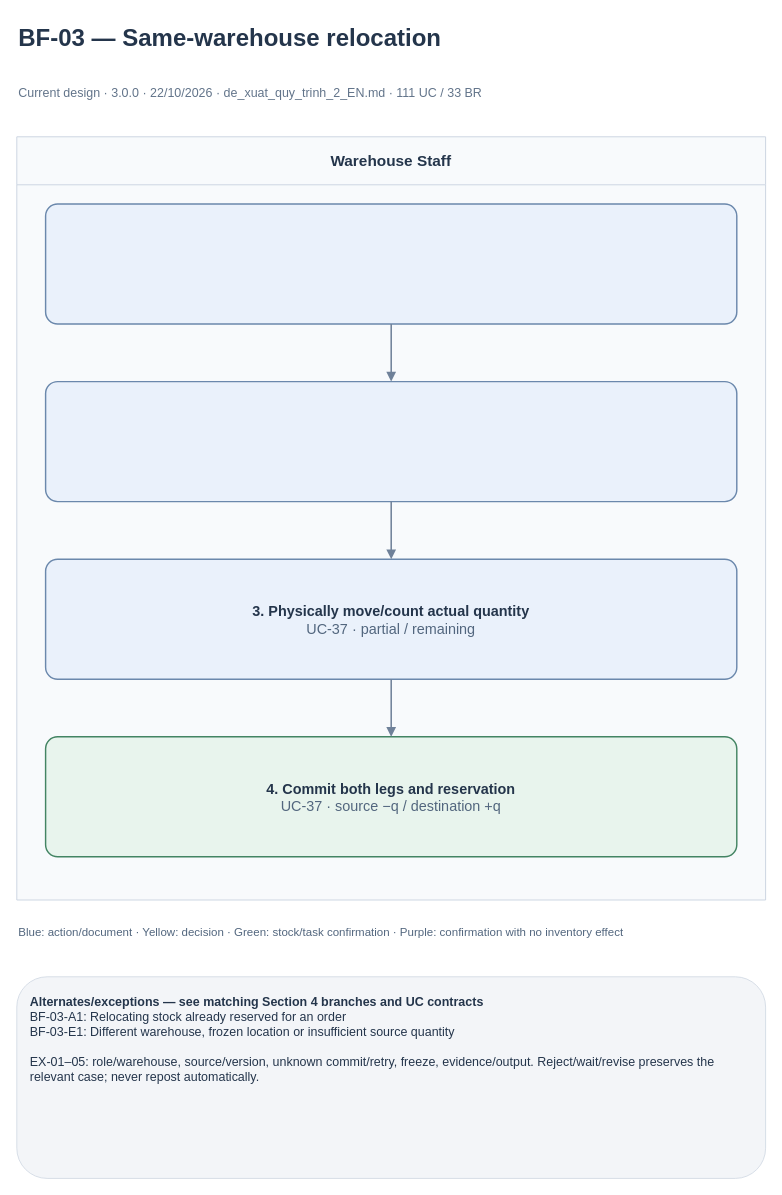
The diagram is 782 pixels wide and 1195 high, and some of its shapes have lost their labels. The shapes that lost their labels are listed below. From the top down, each one's centre as x and y in pixels, then its label:
point (390, 263): 1. Select same-warehouse bins; check lock UC-36 · lot / quality / owner
point (390, 441): 2. Create task; retain reservations TO-RELOCATE · UC-36
